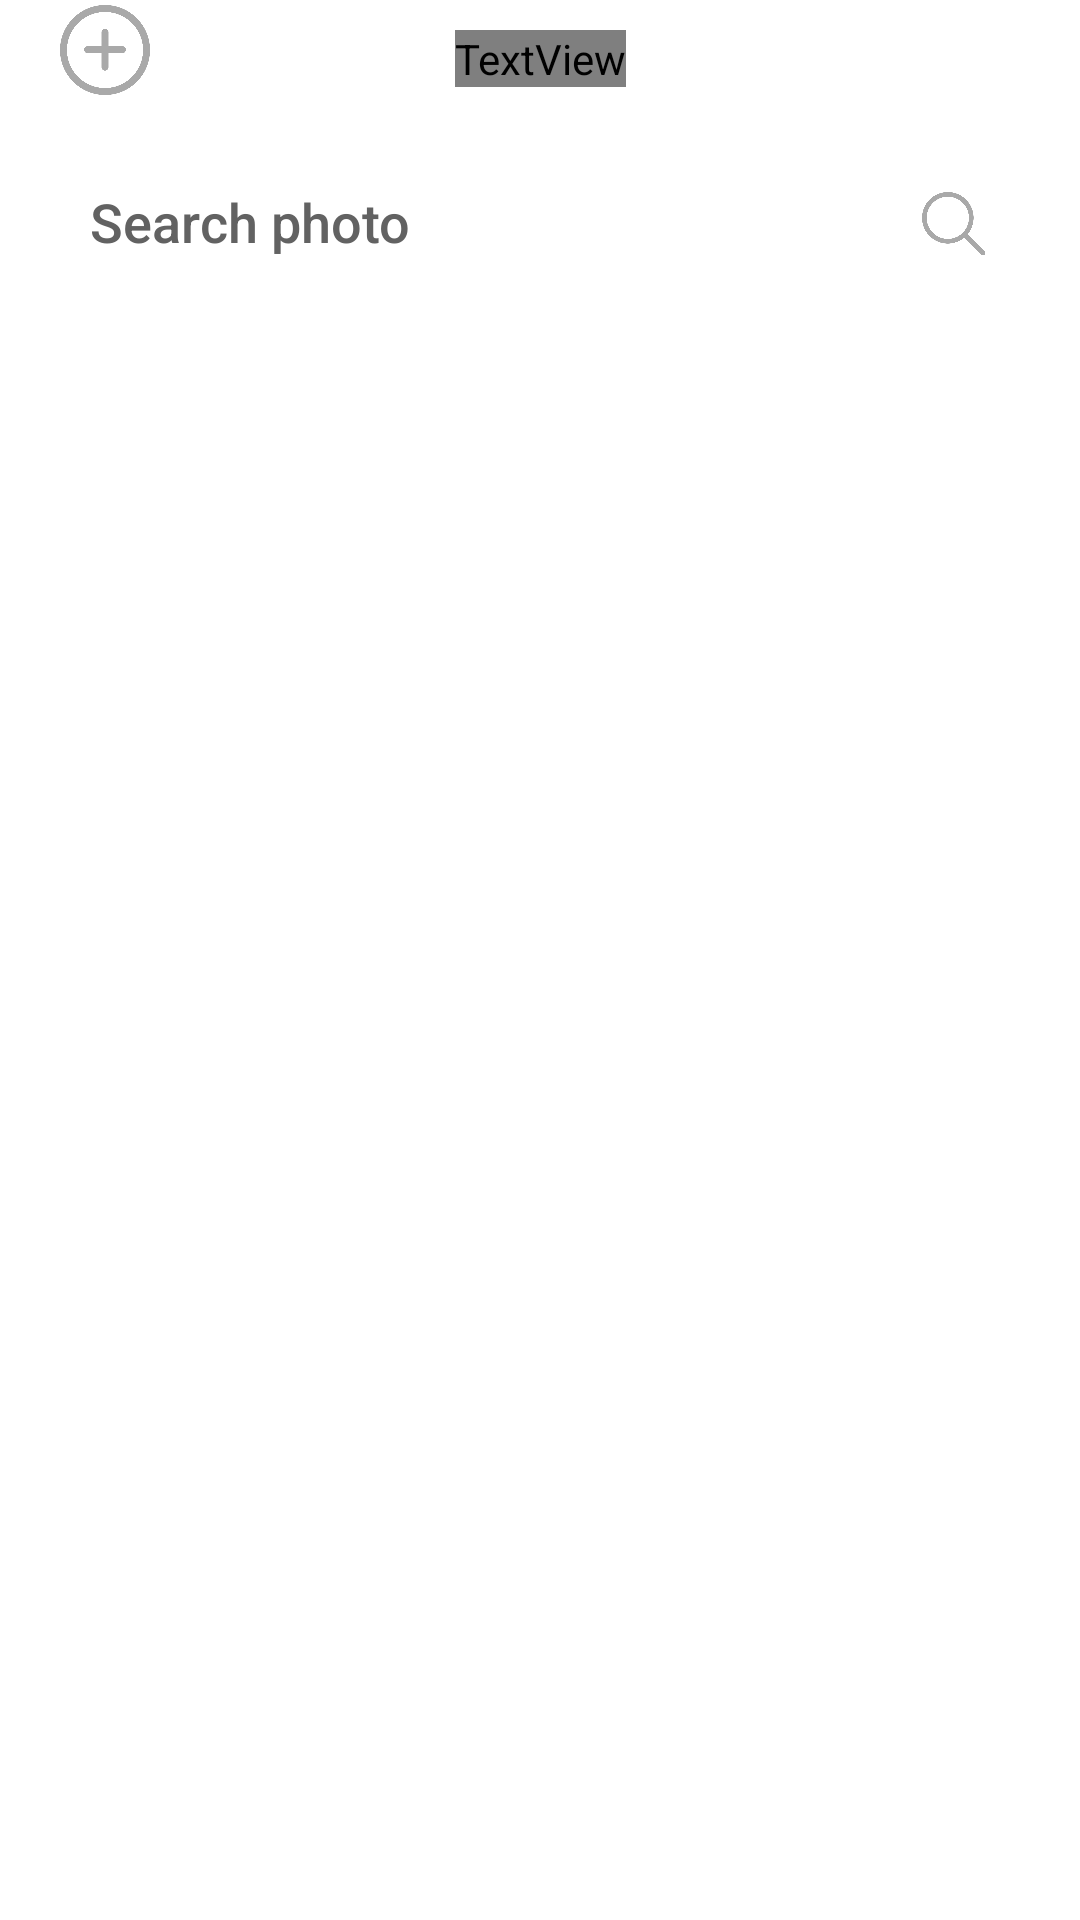

Point at icon controls on the screen. Image size 1080*1920, points as [x,y].
add: [105,50]
